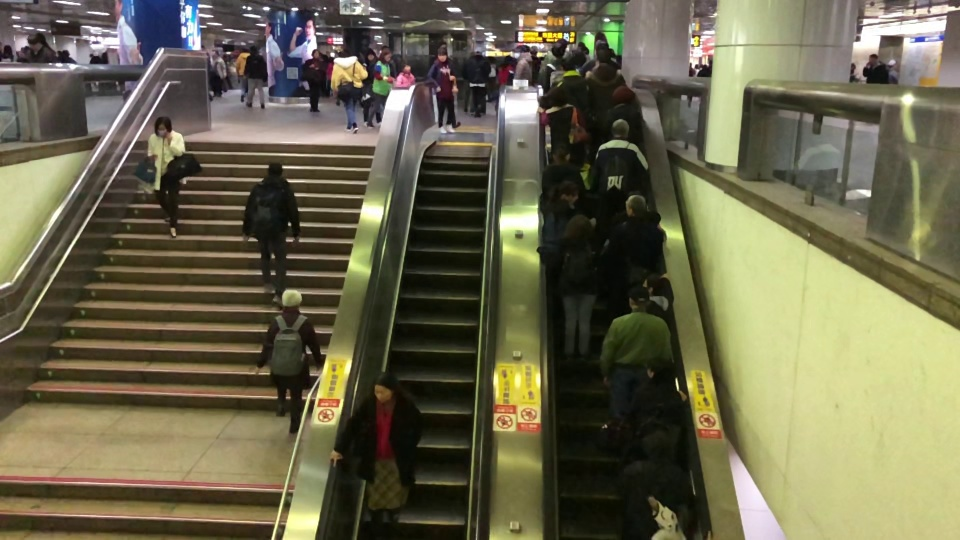person_head: (639, 427, 673, 462), (562, 213, 594, 246), (372, 371, 398, 403), (645, 357, 675, 382), (622, 194, 648, 219), (626, 284, 649, 311), (555, 180, 579, 205), (640, 272, 664, 297), (280, 288, 303, 312), (612, 85, 635, 106), (609, 118, 630, 140), (153, 116, 172, 138), (551, 143, 570, 165), (549, 86, 567, 108), (266, 161, 283, 179), (596, 44, 611, 63), (560, 55, 577, 71), (550, 42, 566, 58), (27, 34, 42, 50), (573, 52, 587, 67), (379, 46, 392, 62), (435, 47, 447, 64), (338, 47, 352, 59), (365, 48, 376, 62), (503, 54, 514, 67), (210, 47, 223, 57), (401, 62, 411, 75), (2, 44, 13, 55), (556, 39, 567, 50), (380, 44, 389, 57), (888, 57, 897, 70), (249, 45, 259, 56), (473, 46, 483, 57), (868, 53, 878, 64), (520, 44, 530, 54), (311, 48, 320, 59), (60, 49, 70, 58), (530, 45, 538, 56), (850, 61, 856, 72), (240, 46, 249, 53), (469, 50, 476, 58), (708, 59, 713, 69), (328, 56, 334, 63), (701, 63, 707, 70), (88, 52, 94, 58), (694, 63, 699, 70), (688, 62, 692, 68)
person_vbox: (328, 371, 426, 540), (535, 213, 612, 360), (598, 283, 673, 430), (253, 288, 323, 434), (613, 427, 700, 540), (599, 194, 667, 329), (241, 160, 301, 309), (590, 117, 648, 249), (616, 357, 687, 464), (145, 116, 188, 238), (537, 86, 588, 165), (330, 47, 369, 134), (541, 142, 587, 213), (595, 85, 645, 149), (537, 55, 593, 112), (425, 46, 455, 135), (540, 179, 580, 244), (584, 44, 625, 106), (365, 46, 392, 128), (462, 46, 491, 118), (640, 272, 674, 329), (537, 39, 573, 86), (243, 45, 269, 109), (543, 42, 576, 90), (303, 48, 326, 113), (358, 48, 376, 127), (494, 55, 514, 121), (462, 50, 477, 116), (234, 46, 250, 104), (210, 46, 227, 99), (23, 34, 55, 62), (863, 53, 888, 85), (514, 45, 532, 85), (393, 62, 415, 90), (380, 44, 396, 78), (573, 52, 594, 75), (686, 62, 695, 109), (530, 45, 540, 85), (326, 56, 335, 96), (56, 49, 78, 64), (849, 61, 862, 83), (888, 58, 898, 85), (0, 44, 14, 62), (703, 59, 713, 77), (88, 52, 102, 64), (696, 63, 707, 77), (692, 63, 699, 77)
